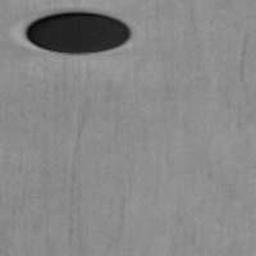Punching: (26, 12, 132, 56)
